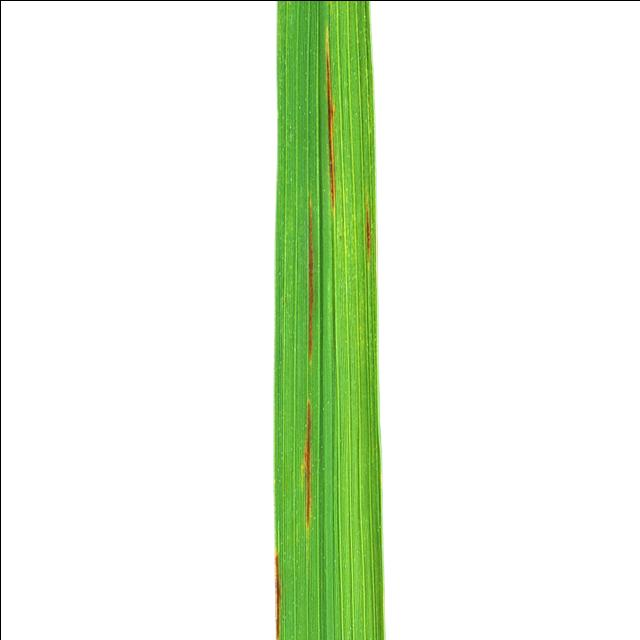Narrow brown: (179, 0, 410, 640)
